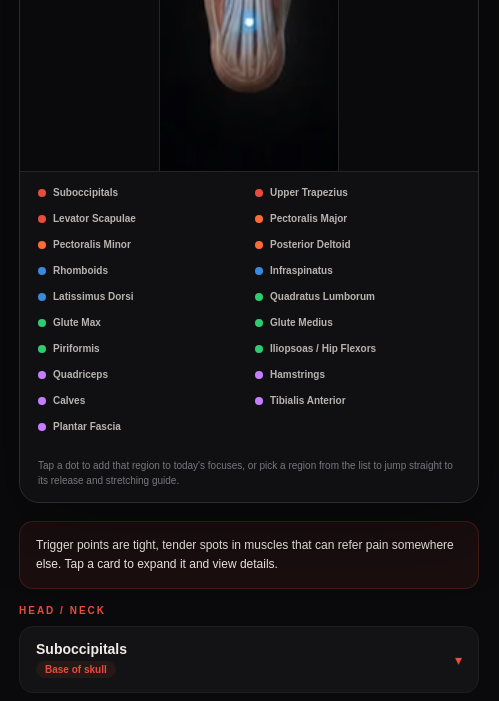
Scenario: TriggerPointsScreen guide cards › points back at the curated map instead of a Google image search
(page scrolled)
Click the button with aria-label "Open details for Piriformis": (140, 349) top-left (32, 336), bottom-right (249, 362)
(page scrolled)
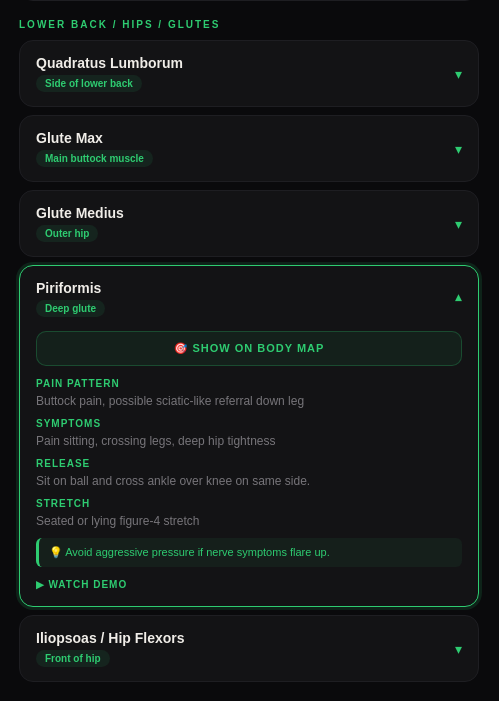
Expected: the button "🎯 SHOW ON BODY MAP" is shown, top-left (36, 331), bottom-right (462, 366)
